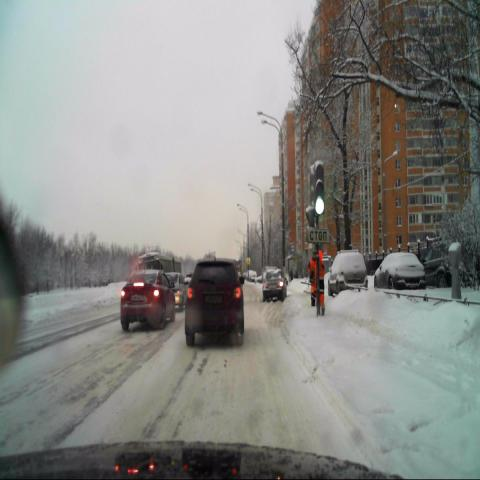6_16: (306, 228, 328, 246)
